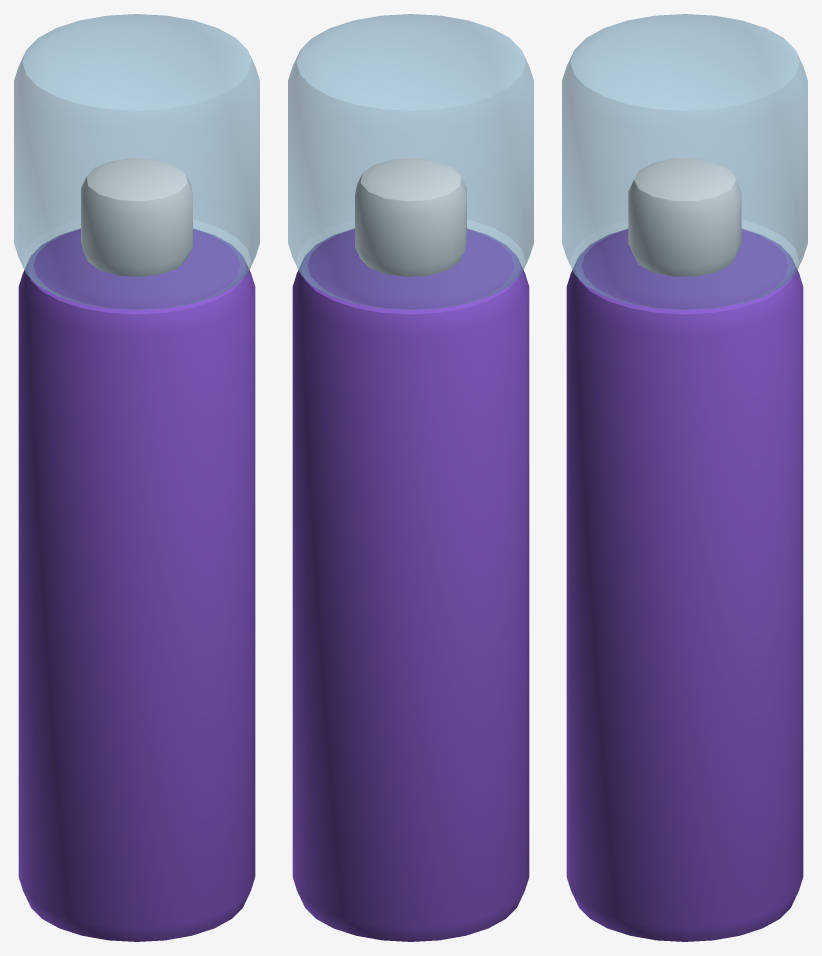
The model's file is frasco_spray_roxo.glb.
The picture shows the model from 3 angles, left to right: view 1: azimuth 30°, elevation 25°; view 2: azimuth 150°, elevation 25°; view 3: azimuth 270°, elevation 25°; orthographic projection.
Visible parts, largest first — view 1: frasco_spray_roxo; view 2: frasco_spray_roxo; view 3: frasco_spray_roxo.
Boxes of the visible parts, bbox=[...] form: frasco_spray_roxo: bbox=[14, 14, 259, 941]; frasco_spray_roxo: bbox=[288, 14, 533, 941]; frasco_spray_roxo: bbox=[562, 14, 807, 941].
Bounding box in the file's own units: 0.052 × 0.198 × 0.052.
Materials: 2 (1 with a texture image).
